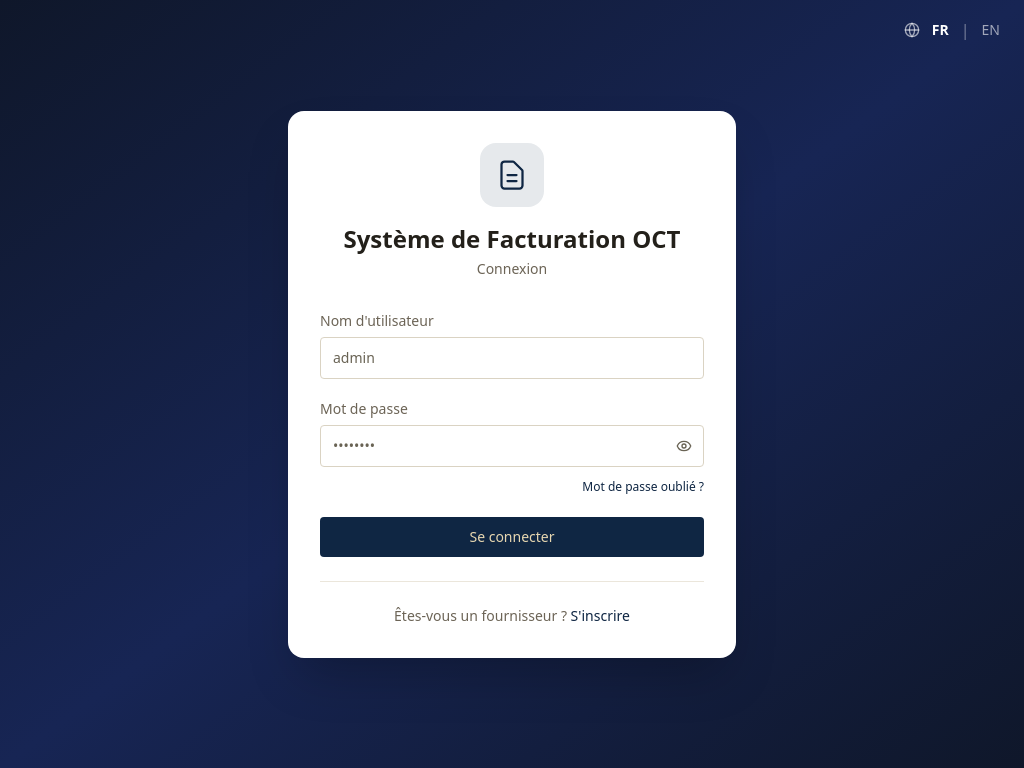
Test: AUDIT-035 — login error messages › shows "service unavailable", NOT "wrong credentials", when the backend is down
Type "aa" into the field labelled "Nom d'utilisateur". click: [512, 358]
box: x1=320 y1=336 x2=704 y2=378
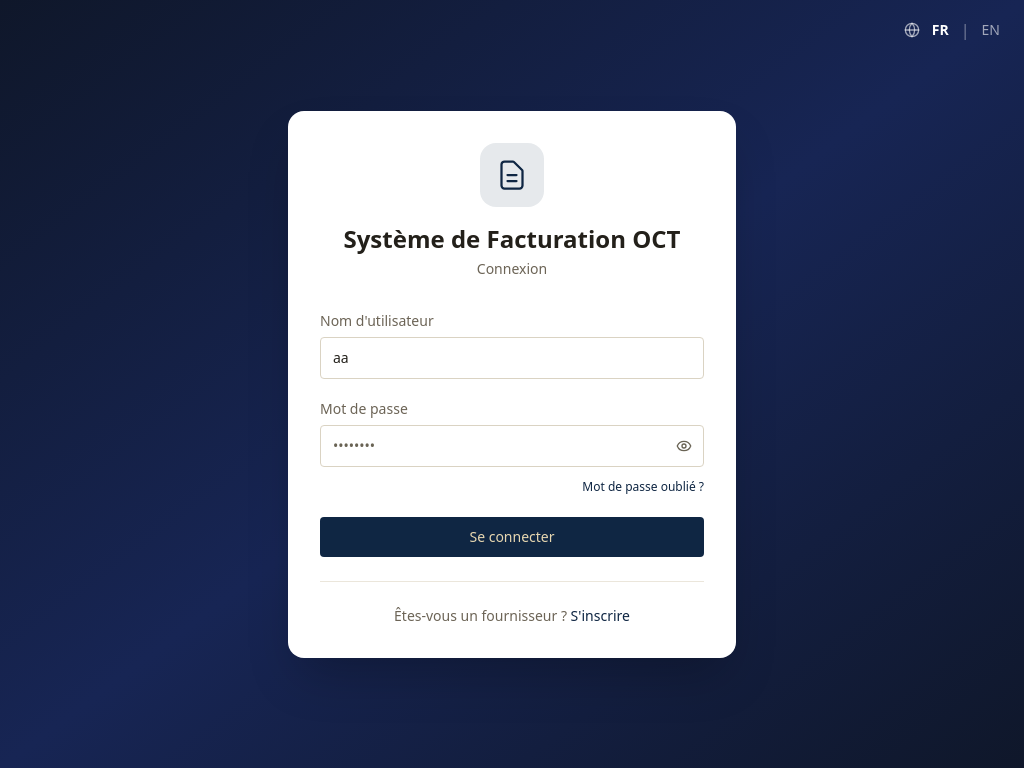
Type "Test1234!" into the password field labelled "Mot de passe". click: [512, 446]
box: x1=320 y1=424 x2=704 y2=466
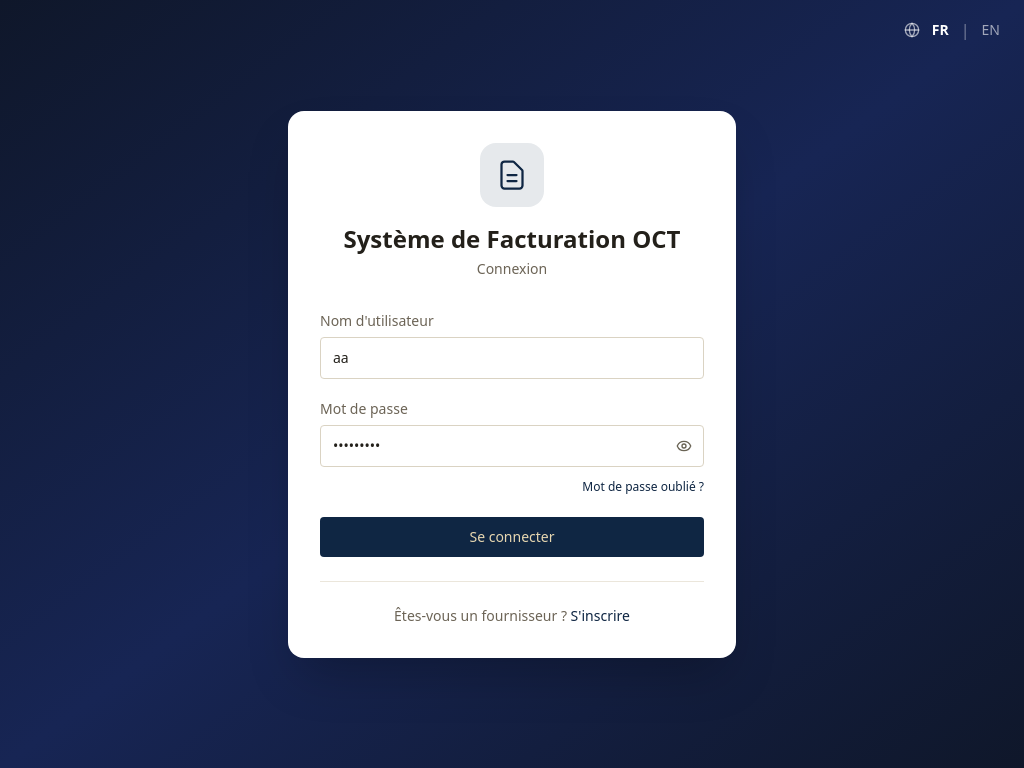
Click the button "Se connecter". click: [512, 536]
box: x1=320 y1=516 x2=704 y2=556
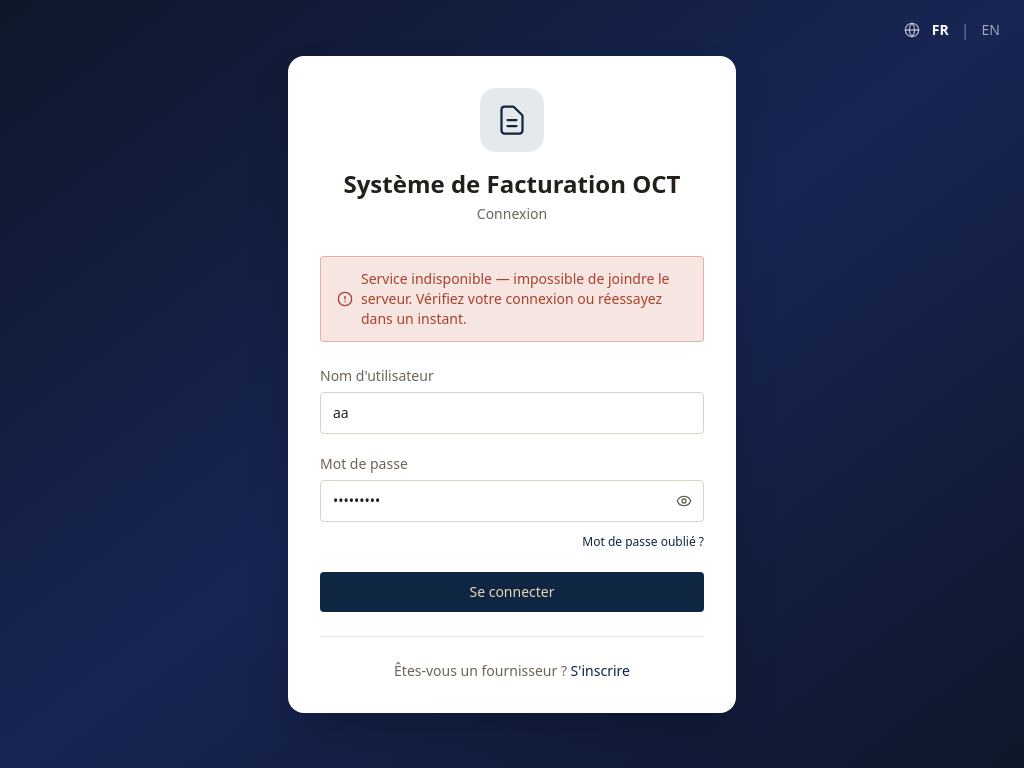
Expected: the text "Service indisponible — impossible de joindre le serveur. Vérifiez votre connexion ou réessayez dans un instant." is shown, x1=361 y1=268 x2=670 y2=328
